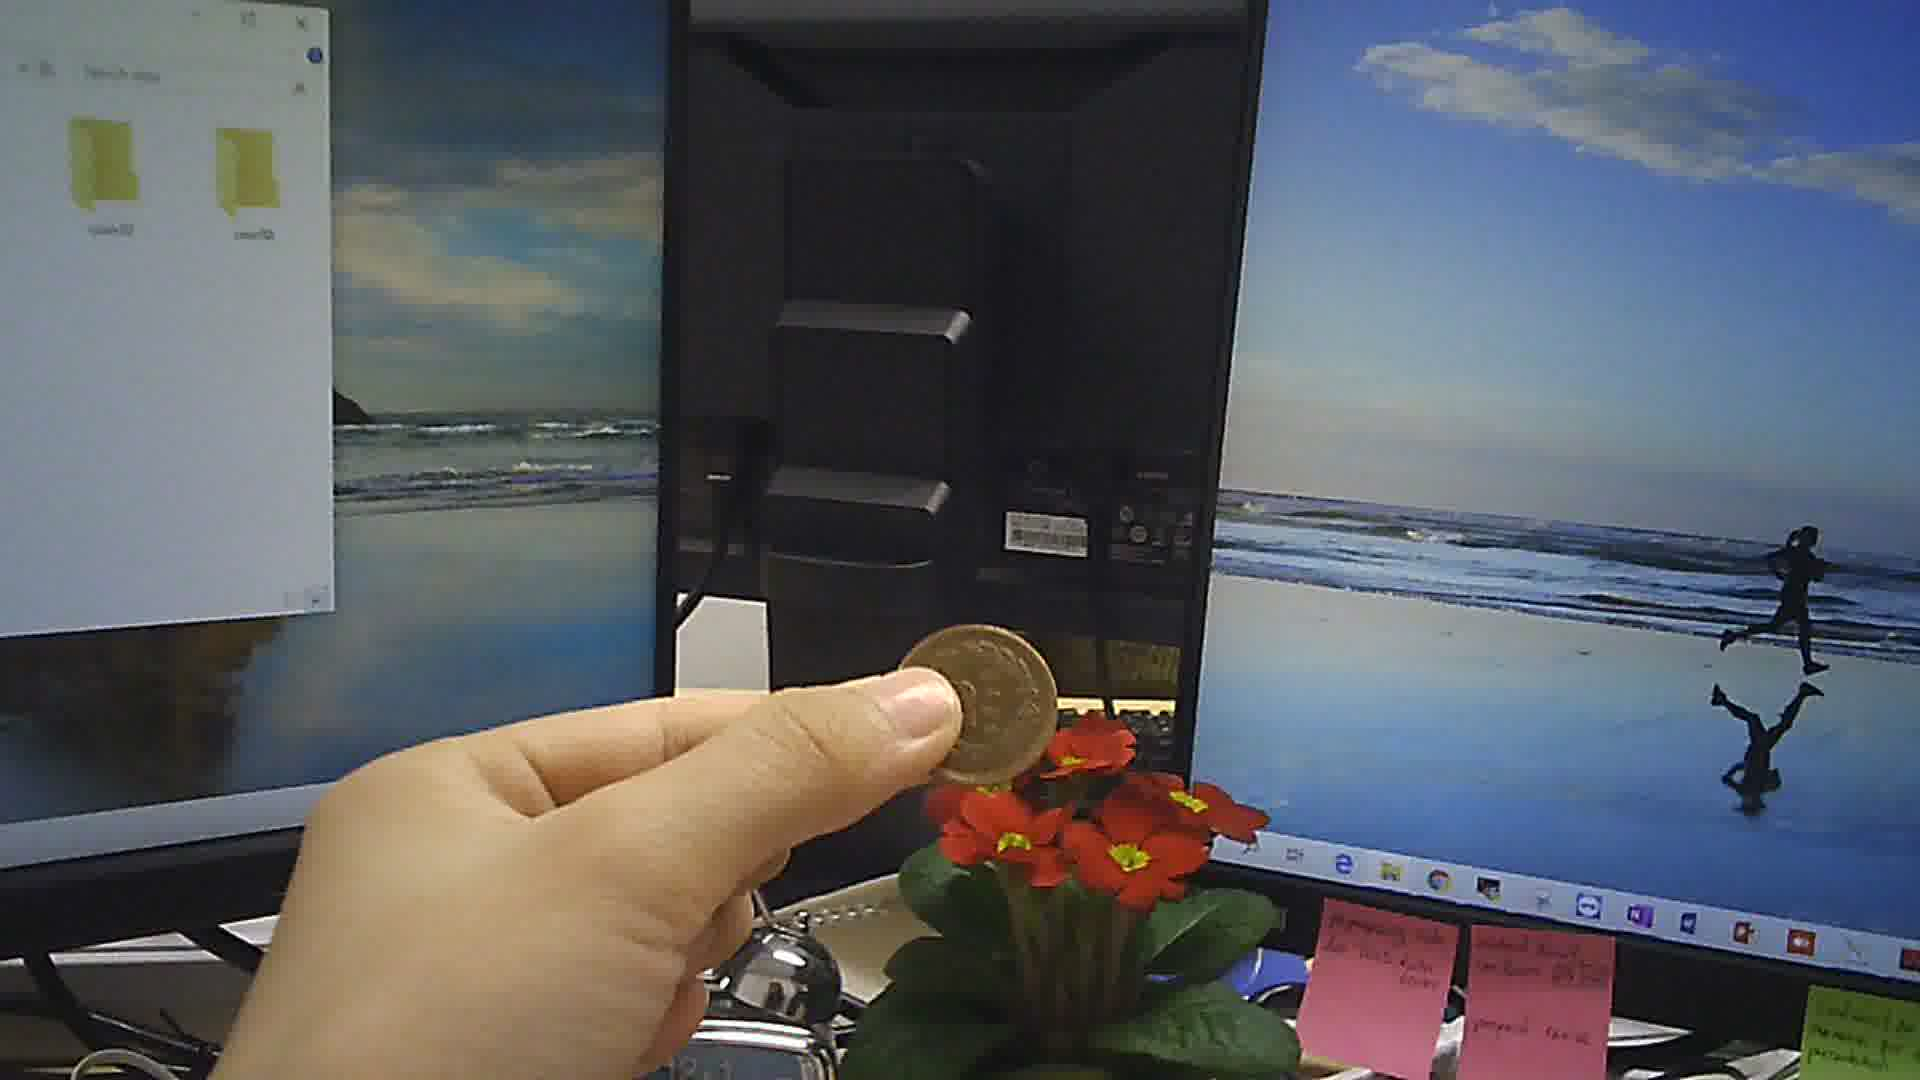10 Yen: (884, 615, 1062, 793)
